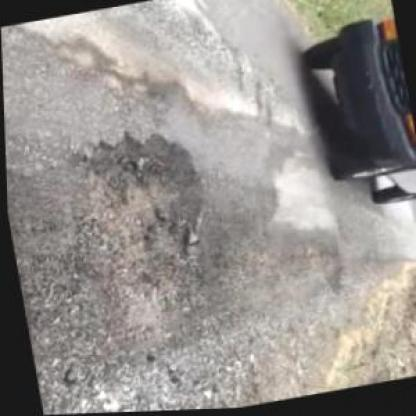pothole: (62, 118, 218, 286)
